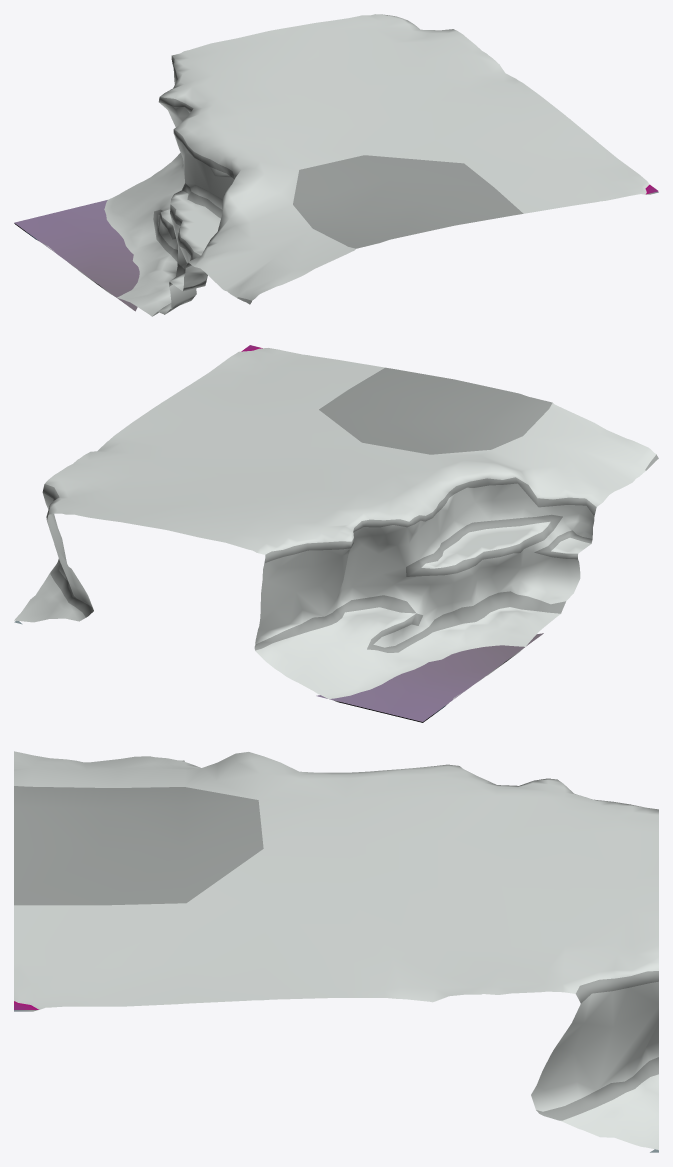
3 renders of one model, top to bottom at view 1: azimuth 30°, elevation 25°; view 2: azimuth 150°, elevation 25°; view 3: azimuth 270°, elevation 25°, orthographic. The views are drawn at different scales.
Parts seen in each view (by area): view 1: G:\FFXIV-MapTools\exports\r2f1\bg\ex1\01_roc_r2\fld\r2f1\bgp (×6); view 2: G:\FFXIV-MapTools\exports\r2f1\bg\ex1\01_roc_r2\fld\r2f1\bgp (×6); view 3: G:\FFXIV-MapTools\exports\r2f1\bg\ex1\01_roc_r2\fld\r2f1\bgp (×5).
Boxes of the visible parts, x1,y1,x2,y2 form: G:\FFXIV-MapTools\exports\r2f1\bg\ex1\01_roc_r2\fld\r2f1\bgp (×6): (14, 14, 649, 316); G:\FFXIV-MapTools\exports\r2f1\bg\ex1\01_roc_r2\fld\r2f1\bgp (×6): (14, 348, 658, 721); G:\FFXIV-MapTools\exports\r2f1\bg\ex1\01_roc_r2\fld\r2f1\bgp (×5): (14, 751, 658, 1150).
Bounding box in the file's own units: 128 × 40.12 × 128.
